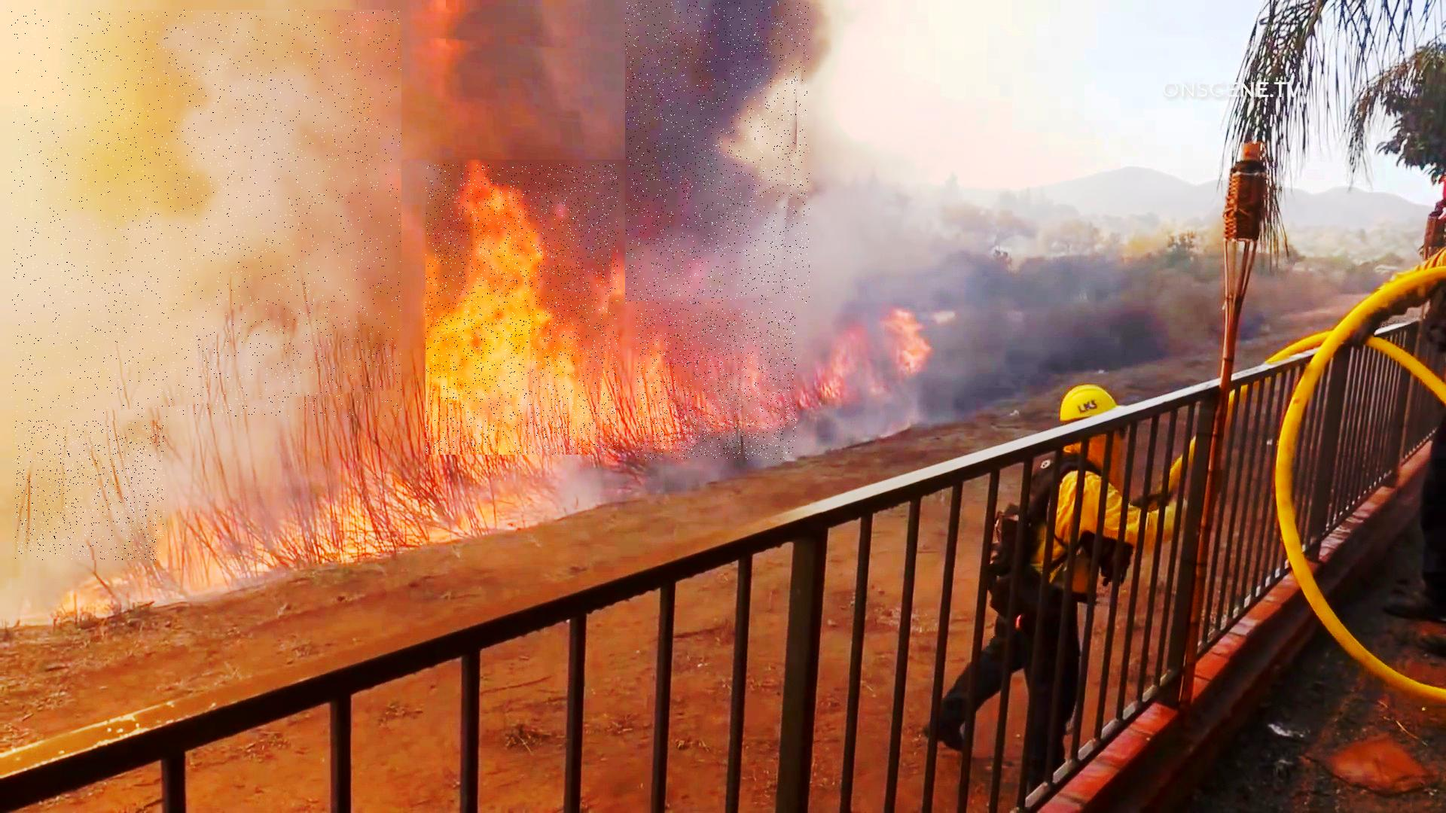fire: (426, 164, 618, 455), (637, 309, 796, 460)
smoke: (12, 10, 402, 417), (0, 2, 797, 160), (625, 2, 810, 305), (16, 420, 165, 560)
